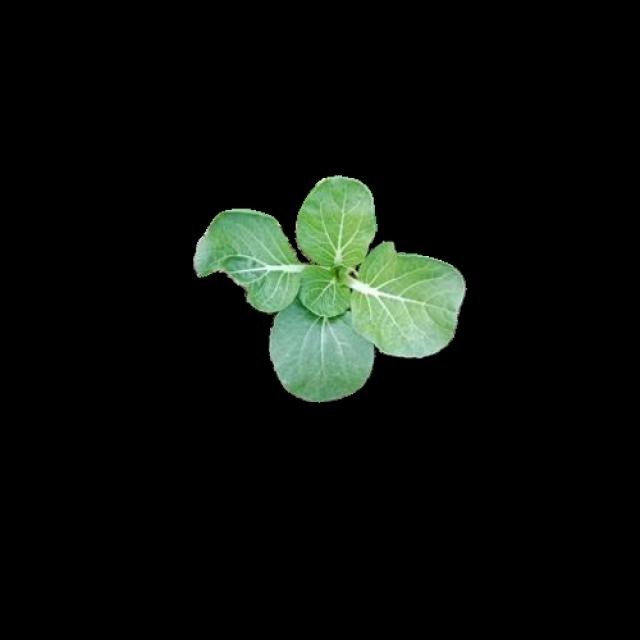not-mature: (194, 174, 464, 401)
unhealthy: (193, 210, 296, 311)
